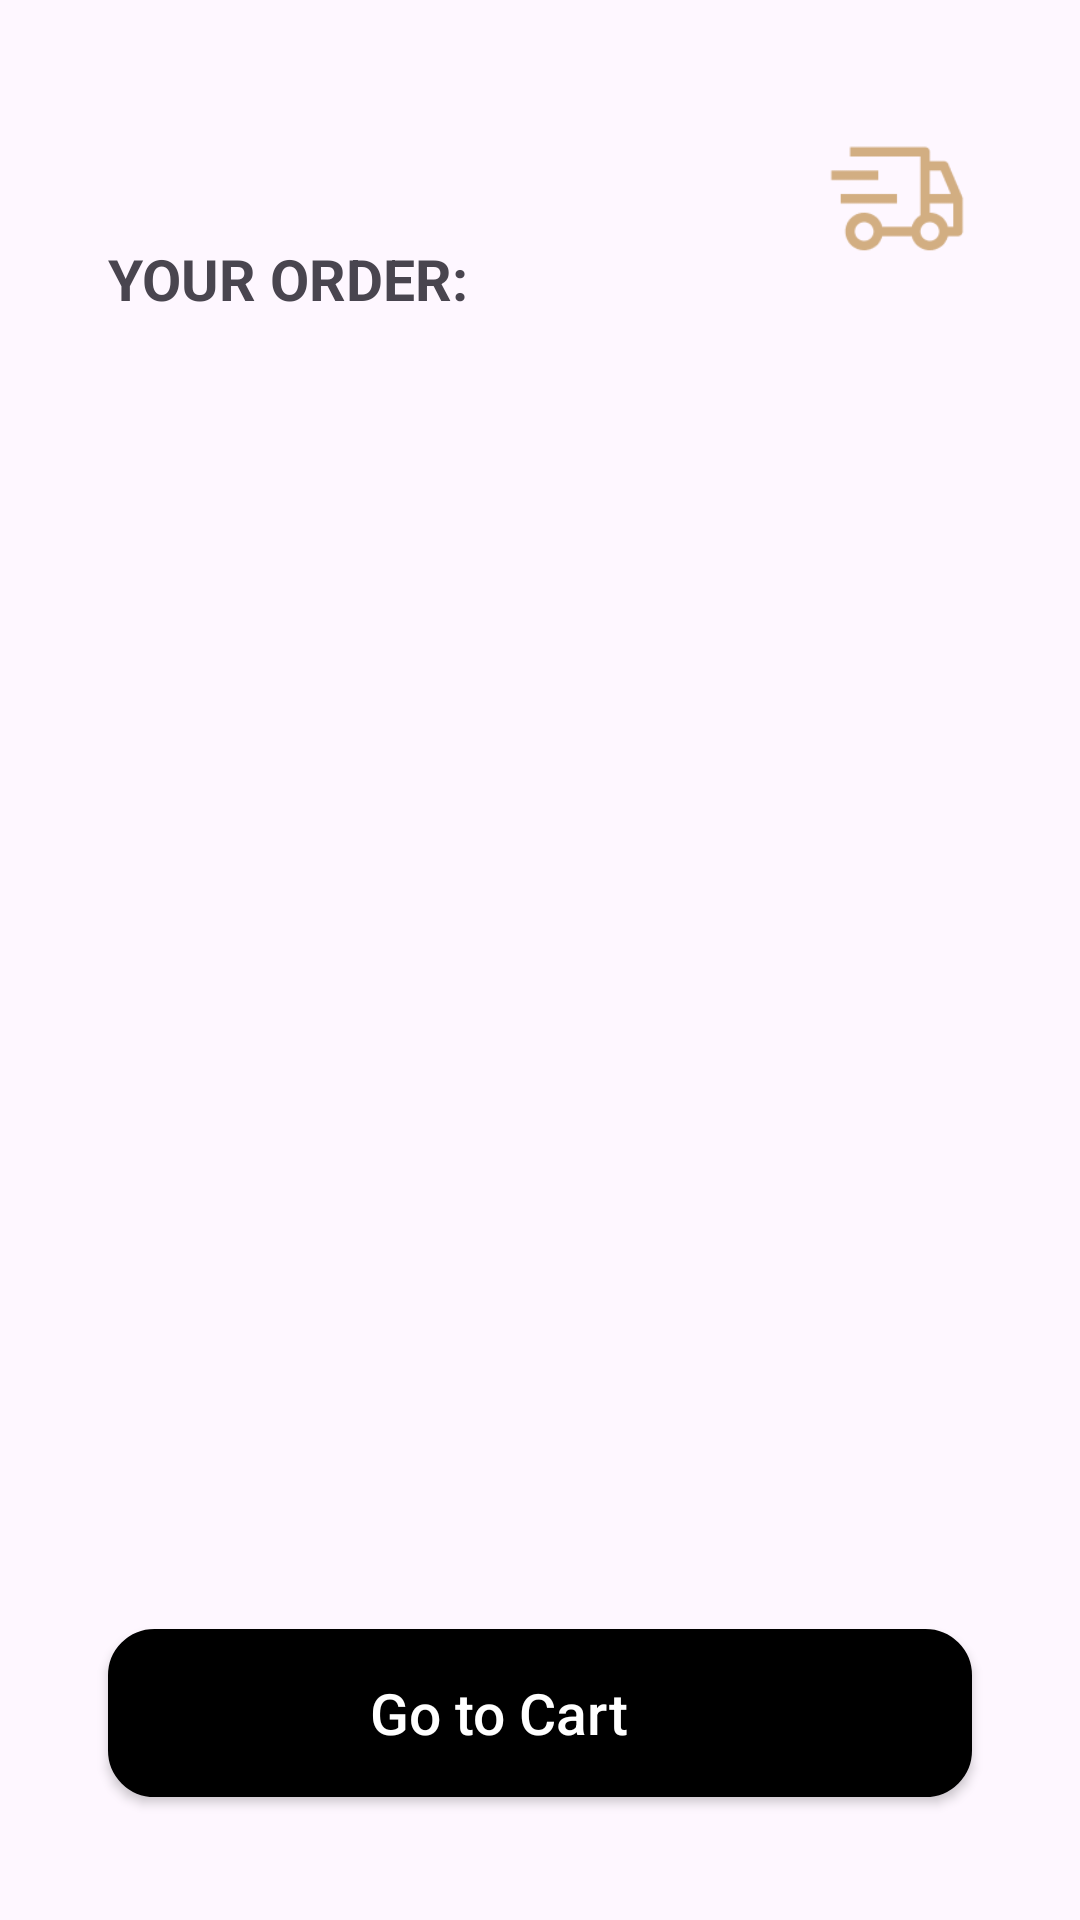

Point at icon controls on the screen. Image size 1080 x 1920, points as (x,y).
Delivery Icon: (897,198)
